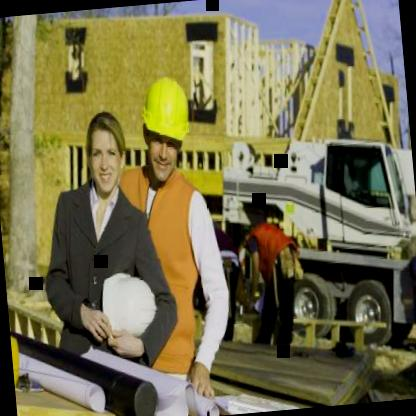helmet: (131, 75, 199, 189)
